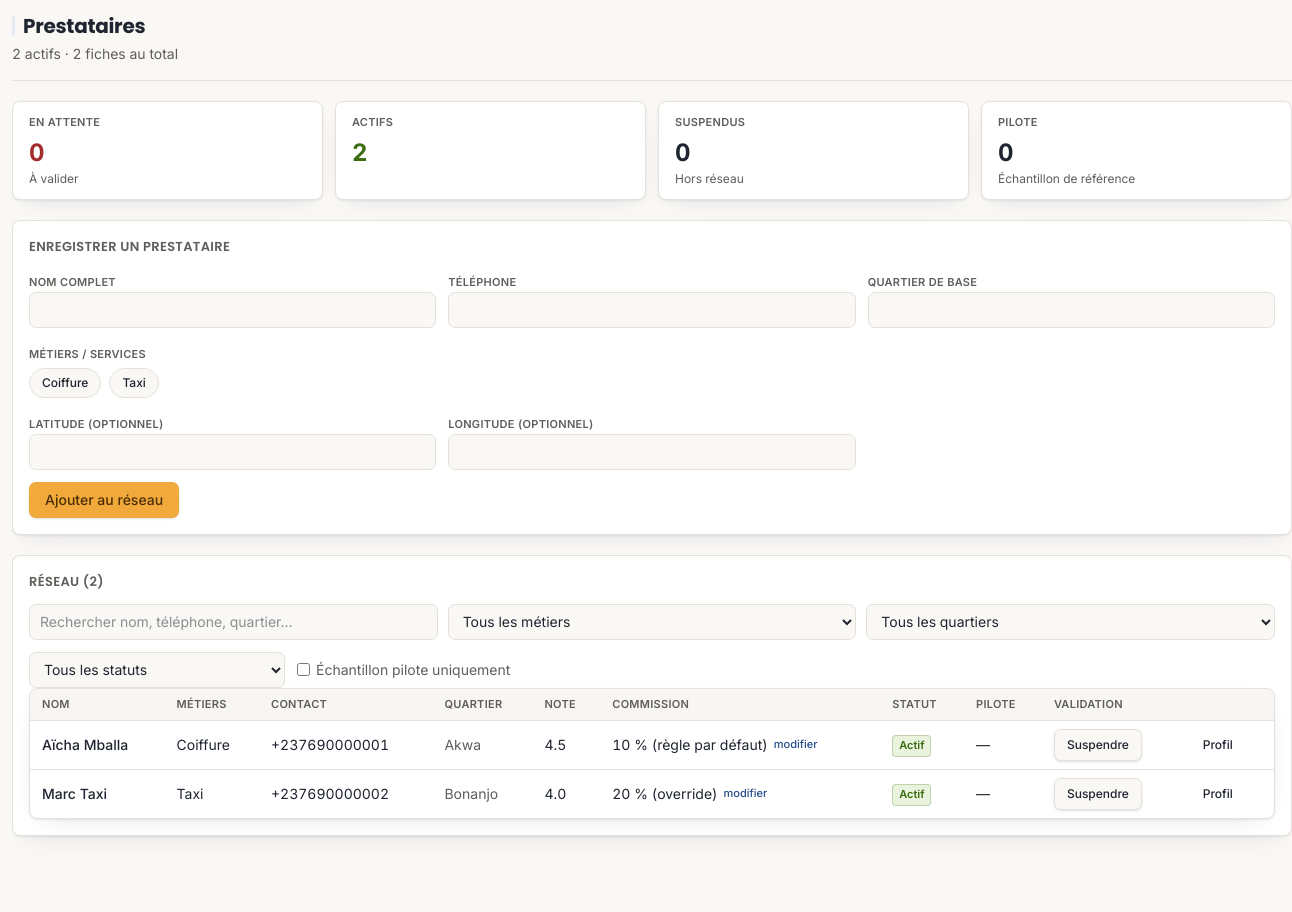
Scenario: Prestataires — annuaire, onboarding, validation de statut, filtres › filtre par catégorie
Check: the text "Aïcha Mballa" is shown, box [30, 721, 165, 770]
Check: the text "Marc Taxi" is shown, box [30, 770, 165, 818]
Select "Coiffure" in the 1st dropdown at (652, 622), box [448, 604, 856, 640]
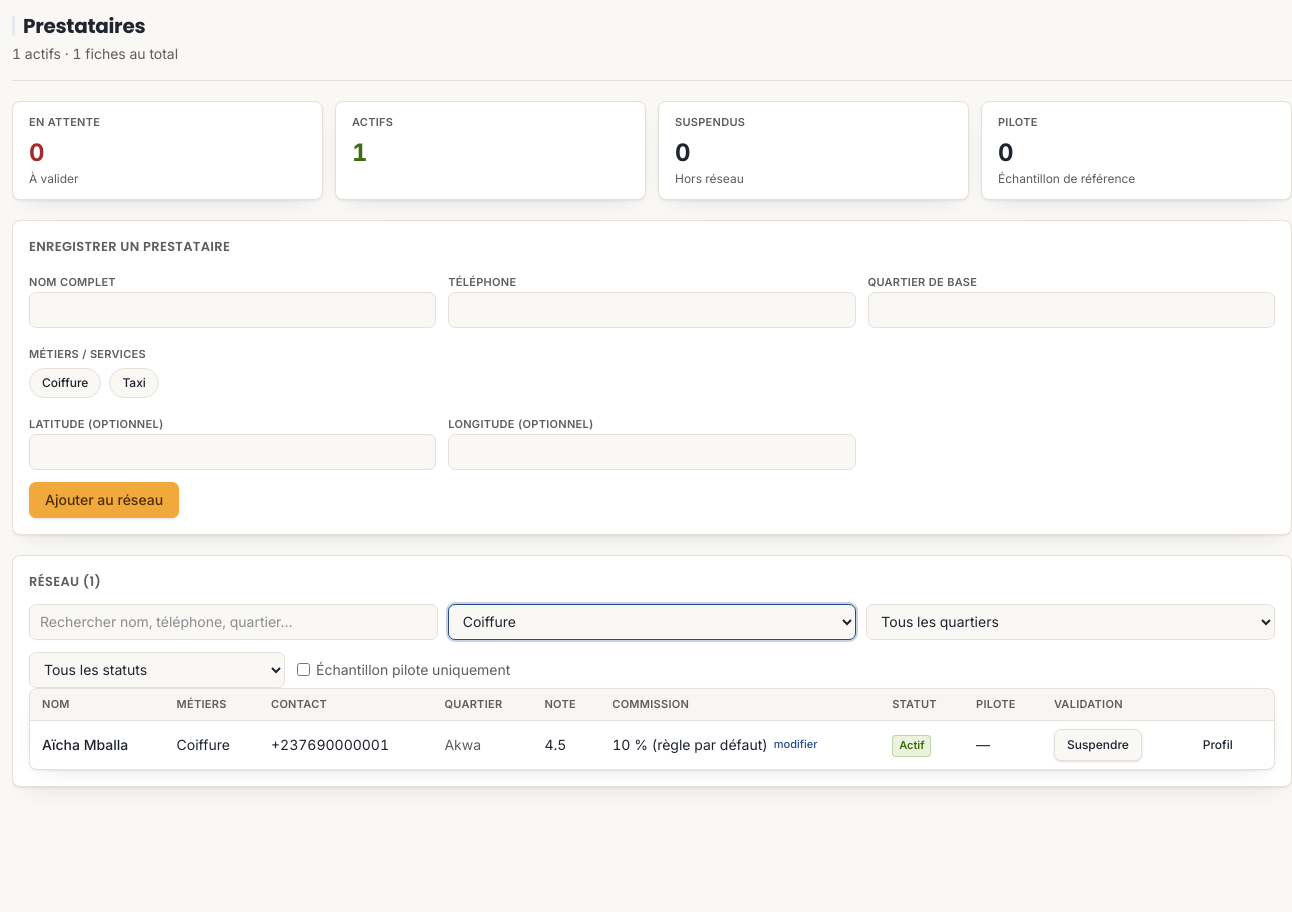
Check: the text "Aïcha Mballa" is shown, box [30, 721, 165, 769]
Check: the text "Marc Taxi" is gone
